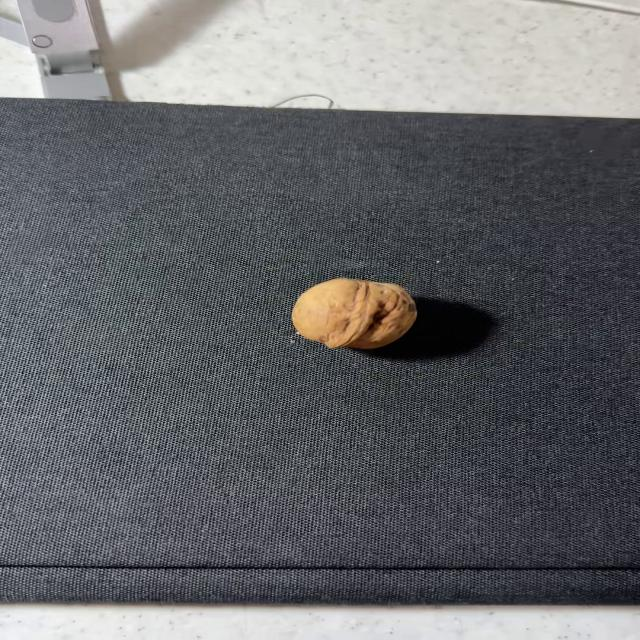nuts-good: (292, 278, 417, 349)
